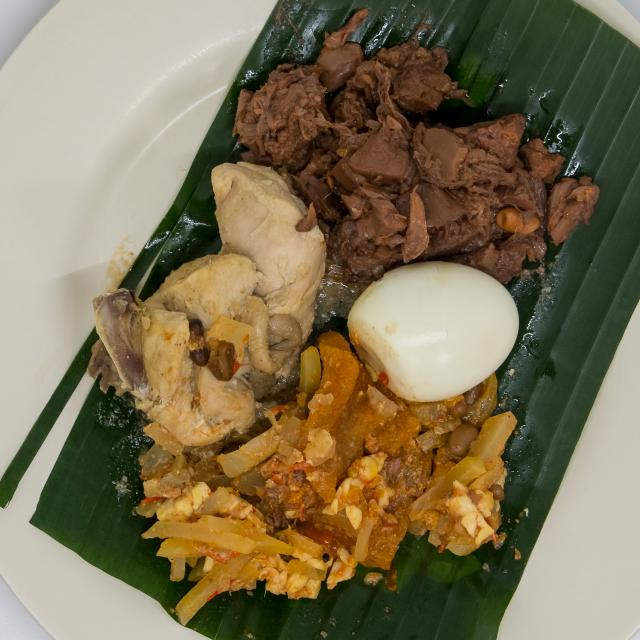Gudeg-Jogja: (56, 7, 612, 621)
